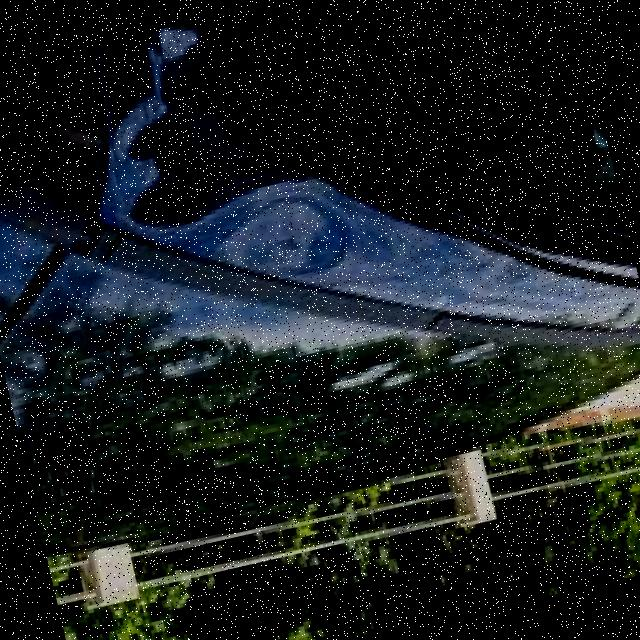Dent: (75, 0, 416, 345)
